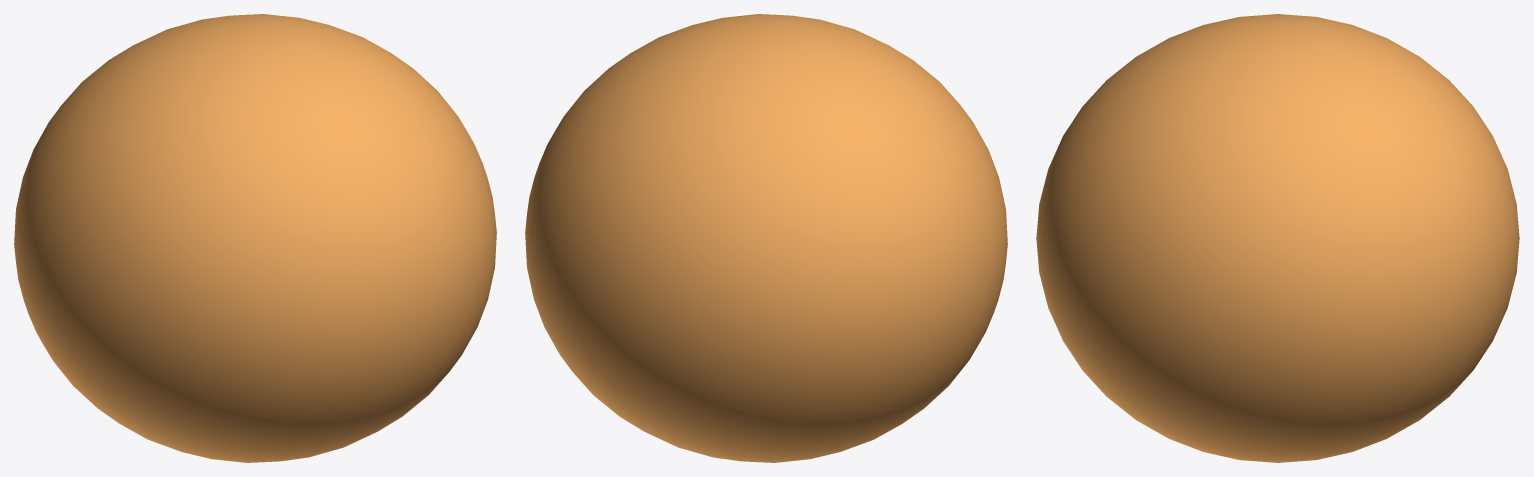
Rendered from tangerine_1.glb.
3 renders of one model, left to right at view 1: azimuth 30°, elevation 25°; view 2: azimuth 150°, elevation 25°; view 3: azimuth 270°, elevation 25°, orthographic.
Visible parts, largest first — view 1: tangerine_1; view 2: tangerine_1; view 3: tangerine_1.
Part boxes in pixels (x1,y1,x2,y2): tangerine_1: (14, 14, 496, 462); tangerine_1: (525, 14, 1007, 462); tangerine_1: (1036, 14, 1519, 462).
Size of the model in its own units: 0.92 by 0.84 by 0.92.
